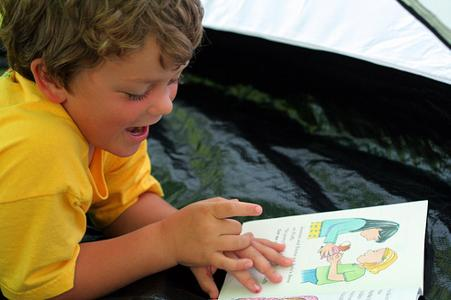person: (1, 2, 295, 299)
